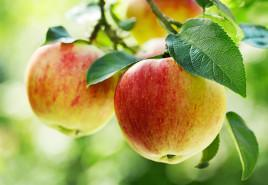apple: (116, 58, 229, 164), (25, 36, 120, 139)
